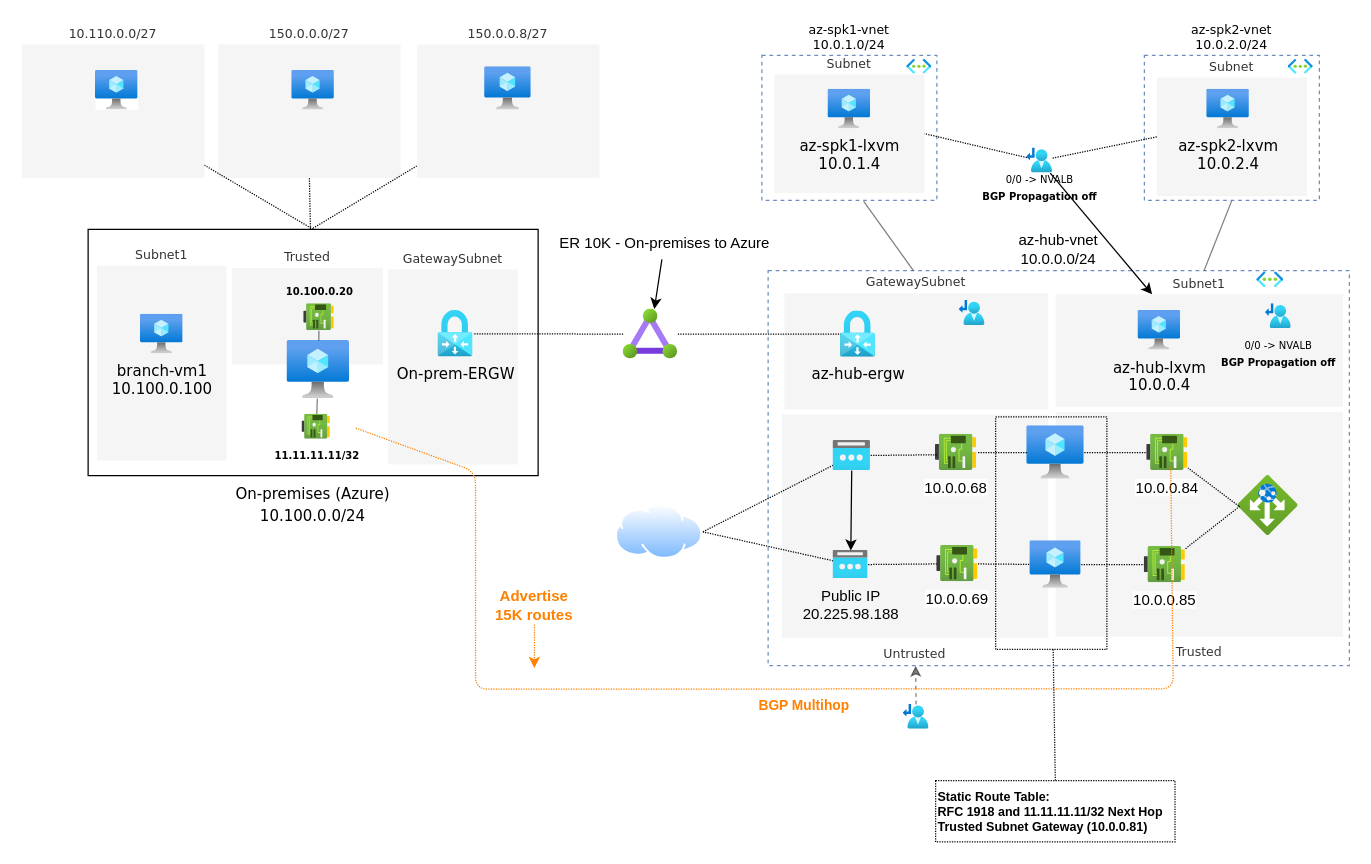
This 1371x864 diagram has some shape labels left out. The centre of each missing label's shape, as x and y in pixels:
"0/0 > Internet BGP Propagation off" belongs at pixel 916 716.
"az-hub-nva1 AS 65004" belongs at pixel 1055 452.
"az-hub-nva2 AS 65004" belongs at pixel 1055 564.
"az-hub-nvalb 10.0.0.86" belongs at pixel 1268 505.
"branch-spk-vm1 10.110.0.4" belongs at pixel 116 90.
"branch-spk-vm2 150.0.0.4" belongs at pixel 312 90.
"branch-spk-vm3 150.0.0.12" belongs at pixel 507 88.
"Internet" belongs at pixel 658 531.
"MSEE AS 12076" belongs at pixel 649 333.
"Public IP 20.225.200.19" belongs at pixel 851 455.
"Router AS 65510" belongs at pixel 317 369.
"VNETs -> NVALB BGP Propagation on" belongs at pixel 971 312.
